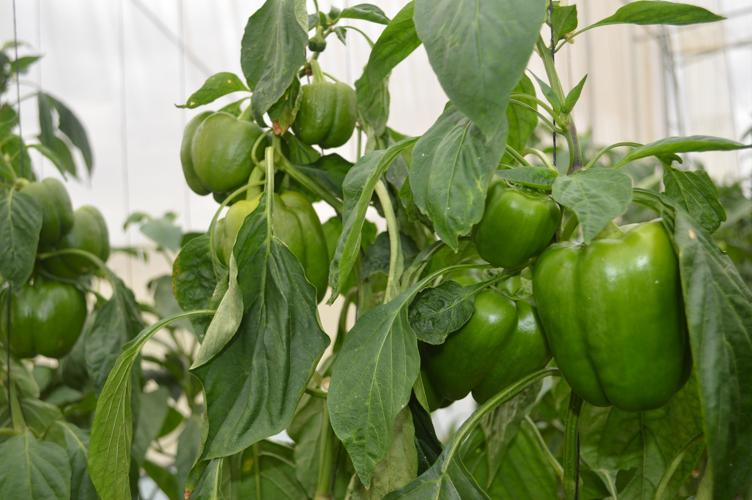BellPepper: (537, 222, 687, 410), (418, 268, 541, 407), (215, 195, 327, 302), (177, 111, 263, 201), (468, 183, 551, 272), (4, 281, 84, 362), (38, 209, 109, 278), (297, 80, 355, 152), (15, 179, 68, 244)
